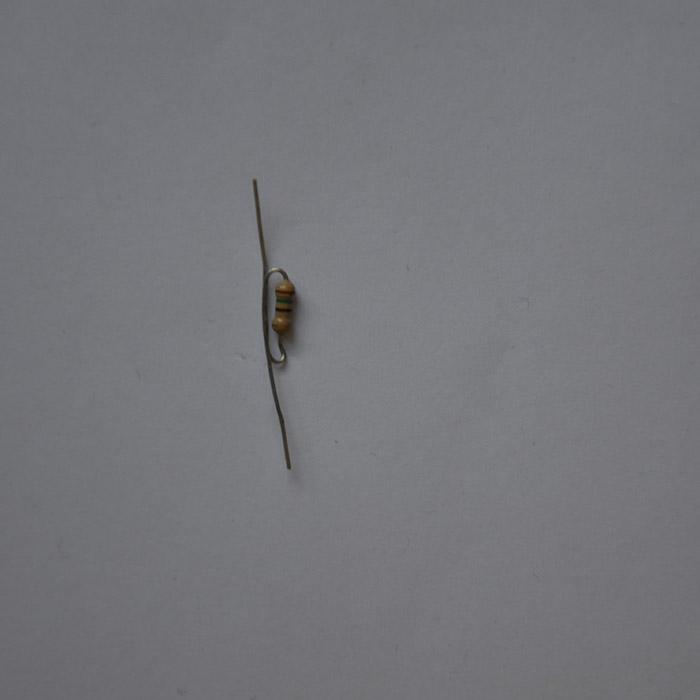resistor: (270, 278, 294, 334)
